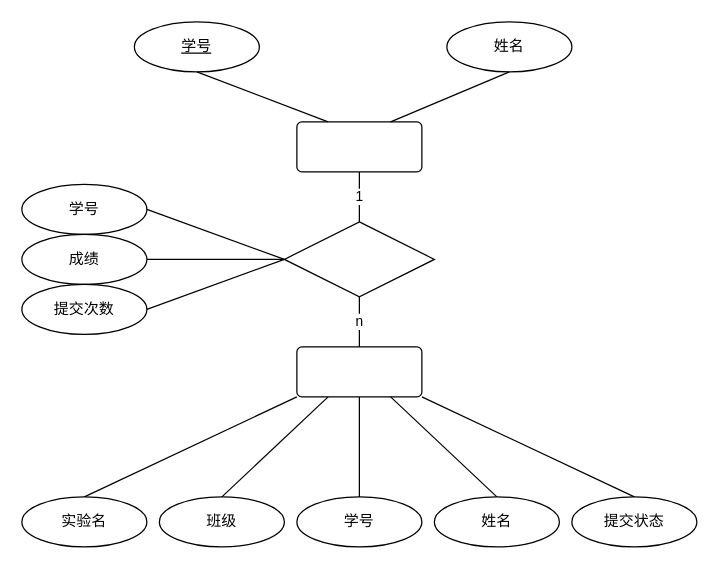
The diagram is 719 pixels wide and 569 high, and some of its shapes have lost their labels. The shapes that lost their labels are listed below. From the top down, each one's centre as x and y in pixels, then its label:
At [359,146]: "学生".
At [358,259]: "提交".
At [359,371]: "作业".
